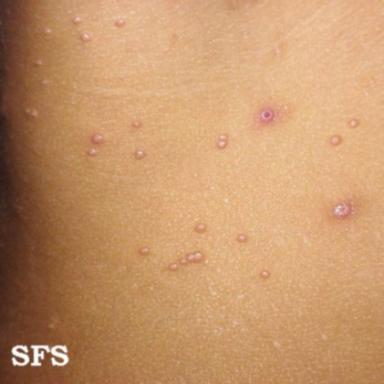Molluscum-Contagiosum: (168, 252, 204, 271), (259, 108, 275, 123), (334, 203, 351, 217), (217, 133, 228, 148), (91, 133, 104, 144), (25, 108, 37, 117), (81, 32, 91, 42), (195, 223, 205, 233), (259, 270, 270, 279), (135, 150, 145, 159), (237, 234, 247, 243), (349, 118, 359, 127), (88, 148, 97, 157), (331, 135, 340, 144), (115, 18, 125, 26), (139, 247, 149, 255), (73, 16, 82, 24), (132, 121, 142, 128), (43, 29, 52, 35), (35, 60, 43, 66), (41, 78, 49, 84), (223, 198, 229, 203)
